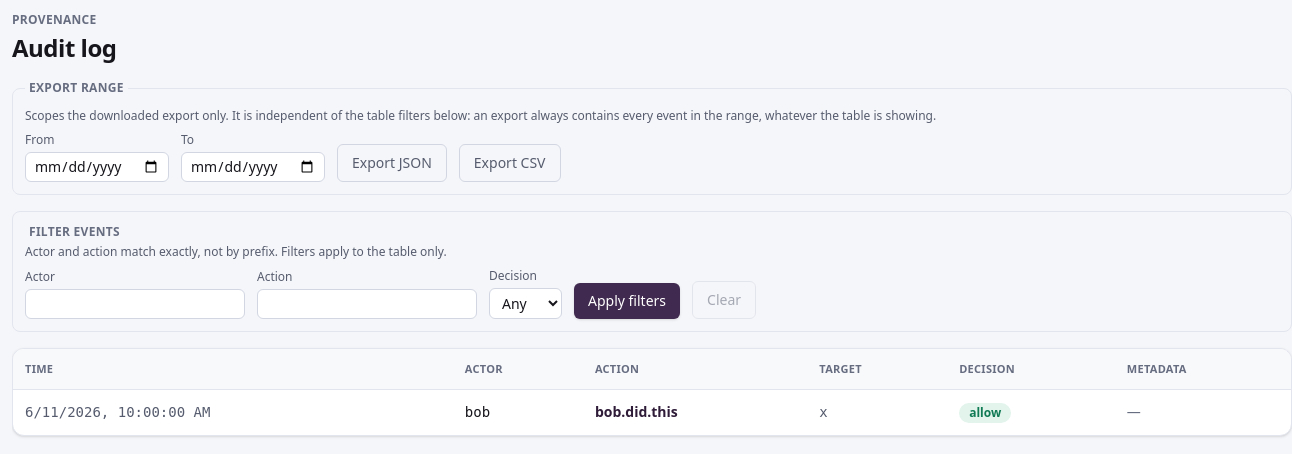
Test: applying a filter renders the filtered page, not the one it replaced
expect the text "bob.did.this" is shown: met, box [583,389,807,435]
Type "alice" into the field named "Filter by actor" at (135, 304), box [25,289,245,319]
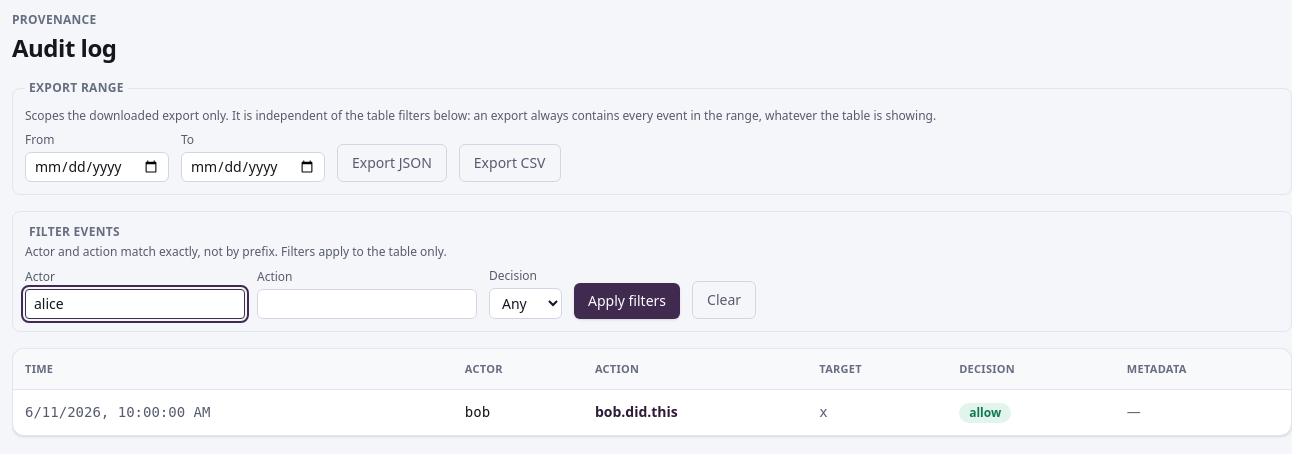
Click the button "Apply filters" at (627, 301), box [574,283,680,319]
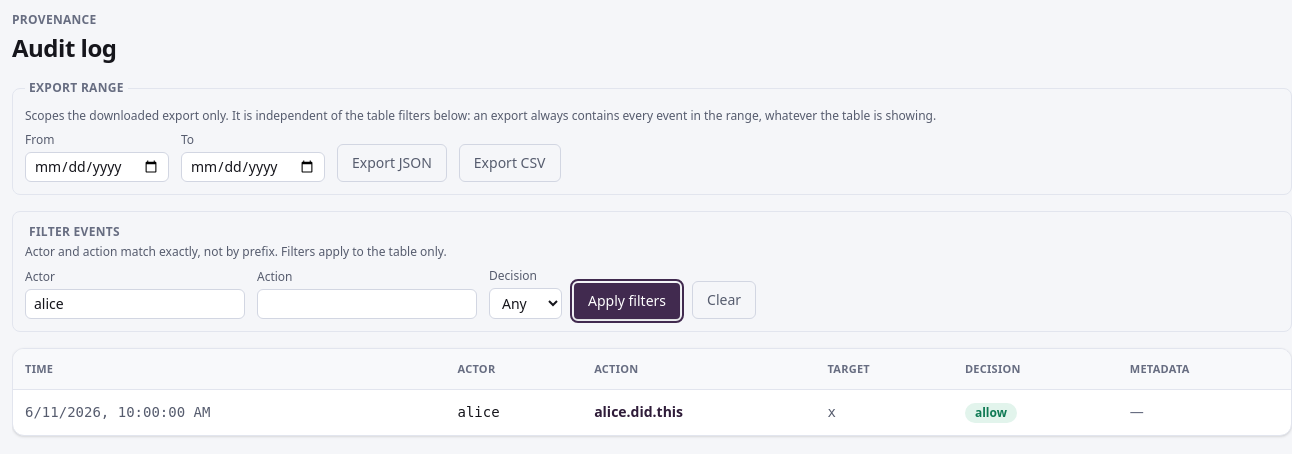
expect the text "alice.did.this" is shown: met, box [582,389,815,435]
expect the text "bob.did.this" is gone: met
